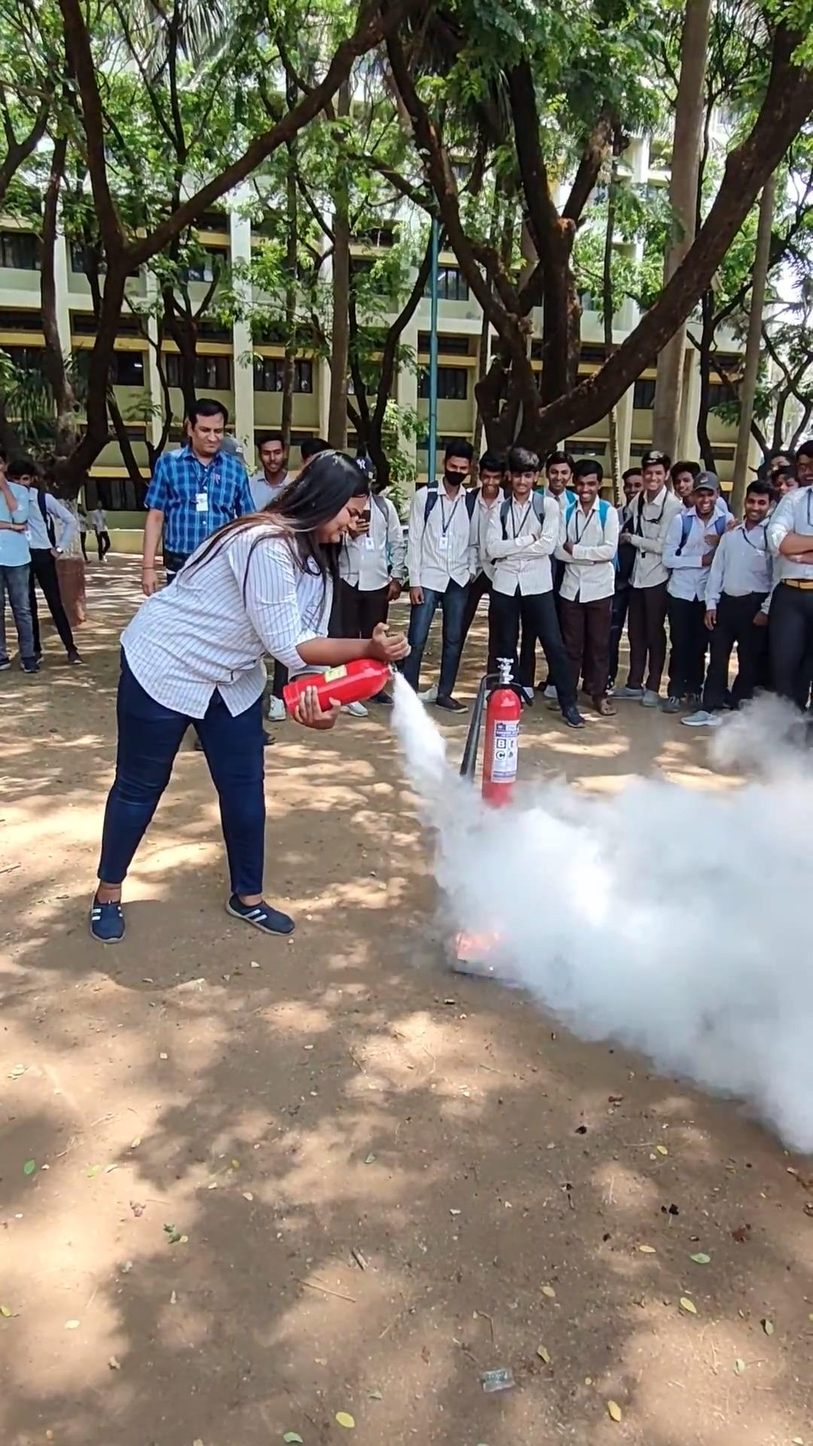FireExtinguisher: (271, 633, 411, 765), (461, 660, 550, 827)
